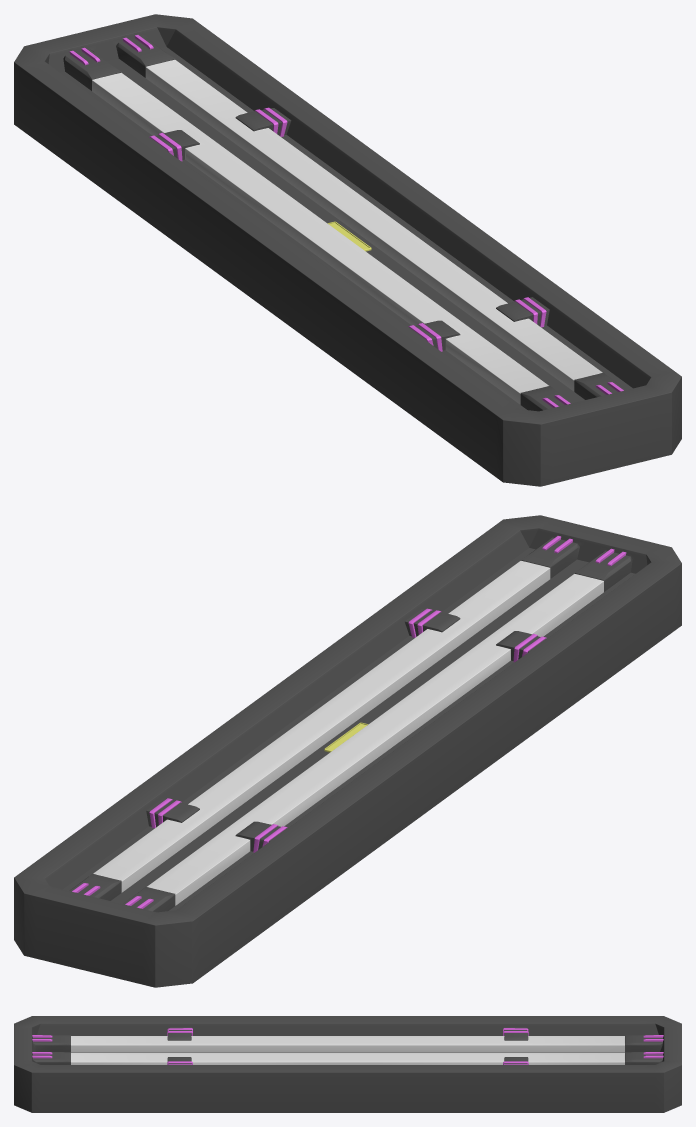
The model's file is CeilingLight01_high.fbx.
3 renders of one model, top to bottom at view 1: azimuth 30°, elevation 25°; view 2: azimuth 150°, elevation 25°; view 3: azimuth 270°, elevation 25°, orthographic. The views are drawn at different scales.
Visible parts, largest first — view 1: CeilingLight; view 2: CeilingLight; view 3: CeilingLight.
Part boxes in pixels (x1,y1,x2,y2): CeilingLight: (14,14,681,486); CeilingLight: (14,515,681,987); CeilingLight: (14,1016,681,1112).
Bounding box in the file's own units: 30 × 10 × 150.
